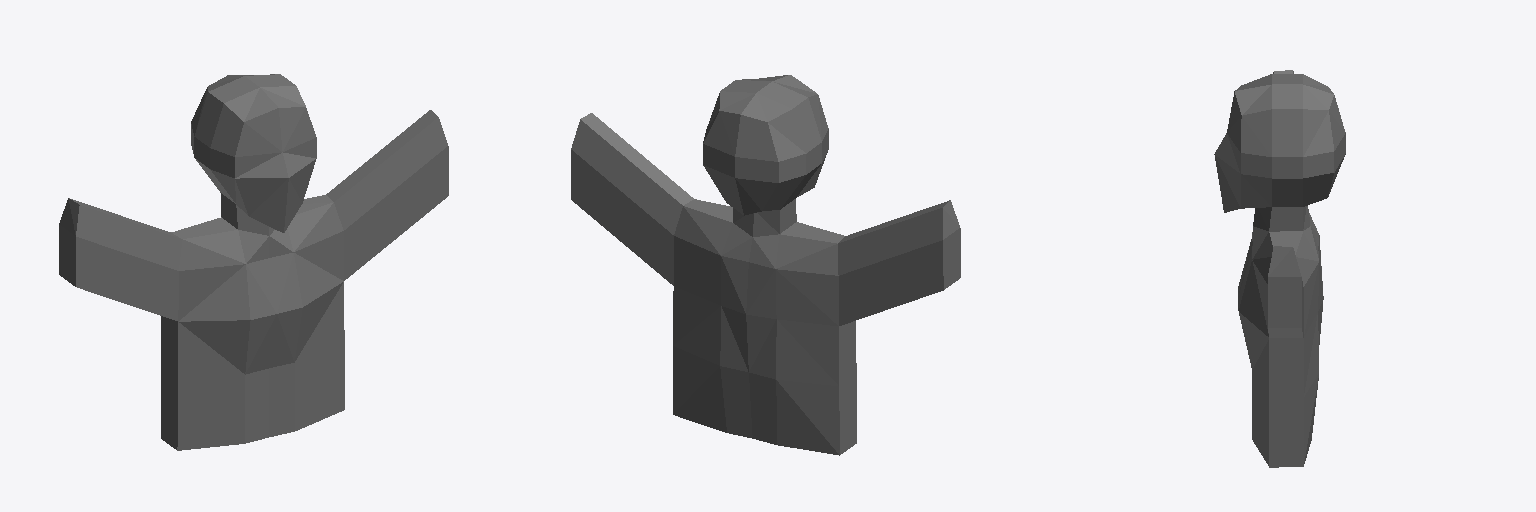
Rendered from characterAnim2.obj.
3 renders of one model, left to right at view 1: azimuth 30°, elevation 25°; view 2: azimuth 150°, elevation 25°; view 3: azimuth 270°, elevation 25°, orthographic.
Visible parts, largest first — view 1: Cube; view 2: Cube; view 3: Cube.
Part boxes in pixels (x1,y1,x2,y2): Cube: (59, 74, 448, 450); Cube: (571, 75, 960, 455); Cube: (1214, 70, 1345, 467).
Size of the model in its own units: 7.47 by 6.56 by 2.28.